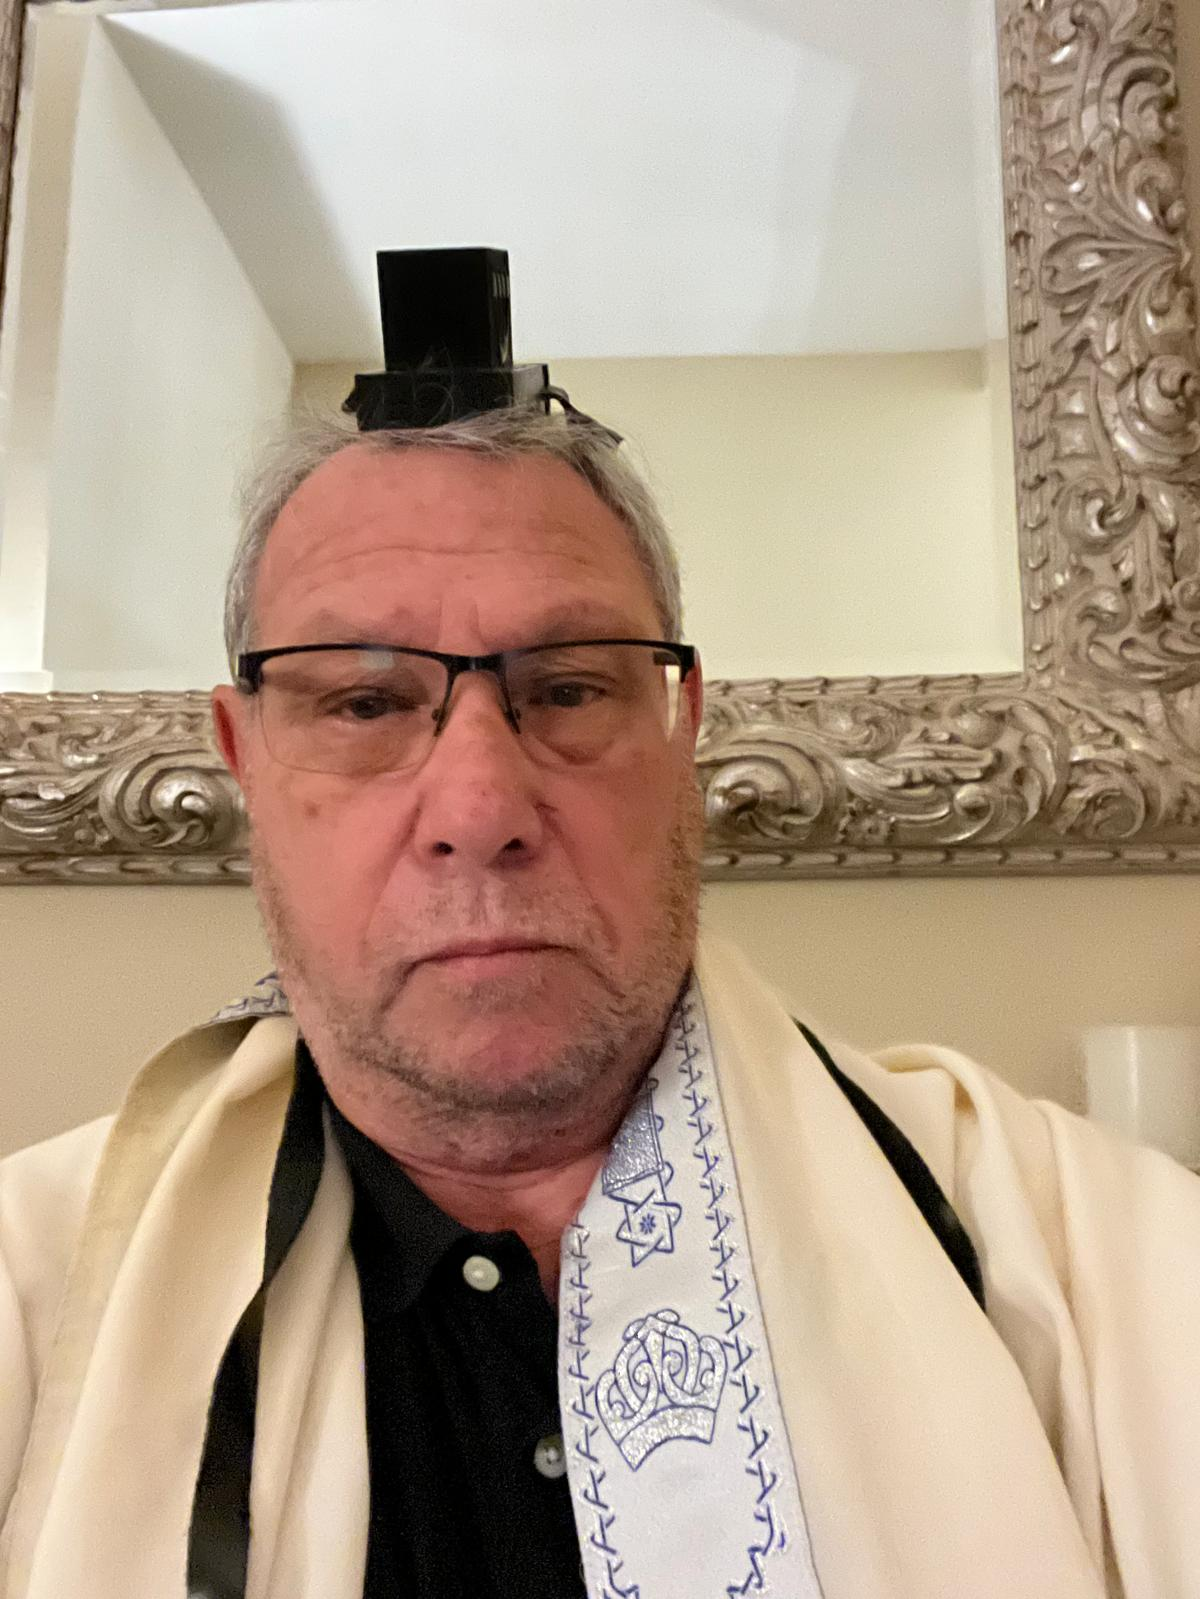tefillin: (353, 246, 550, 427)
